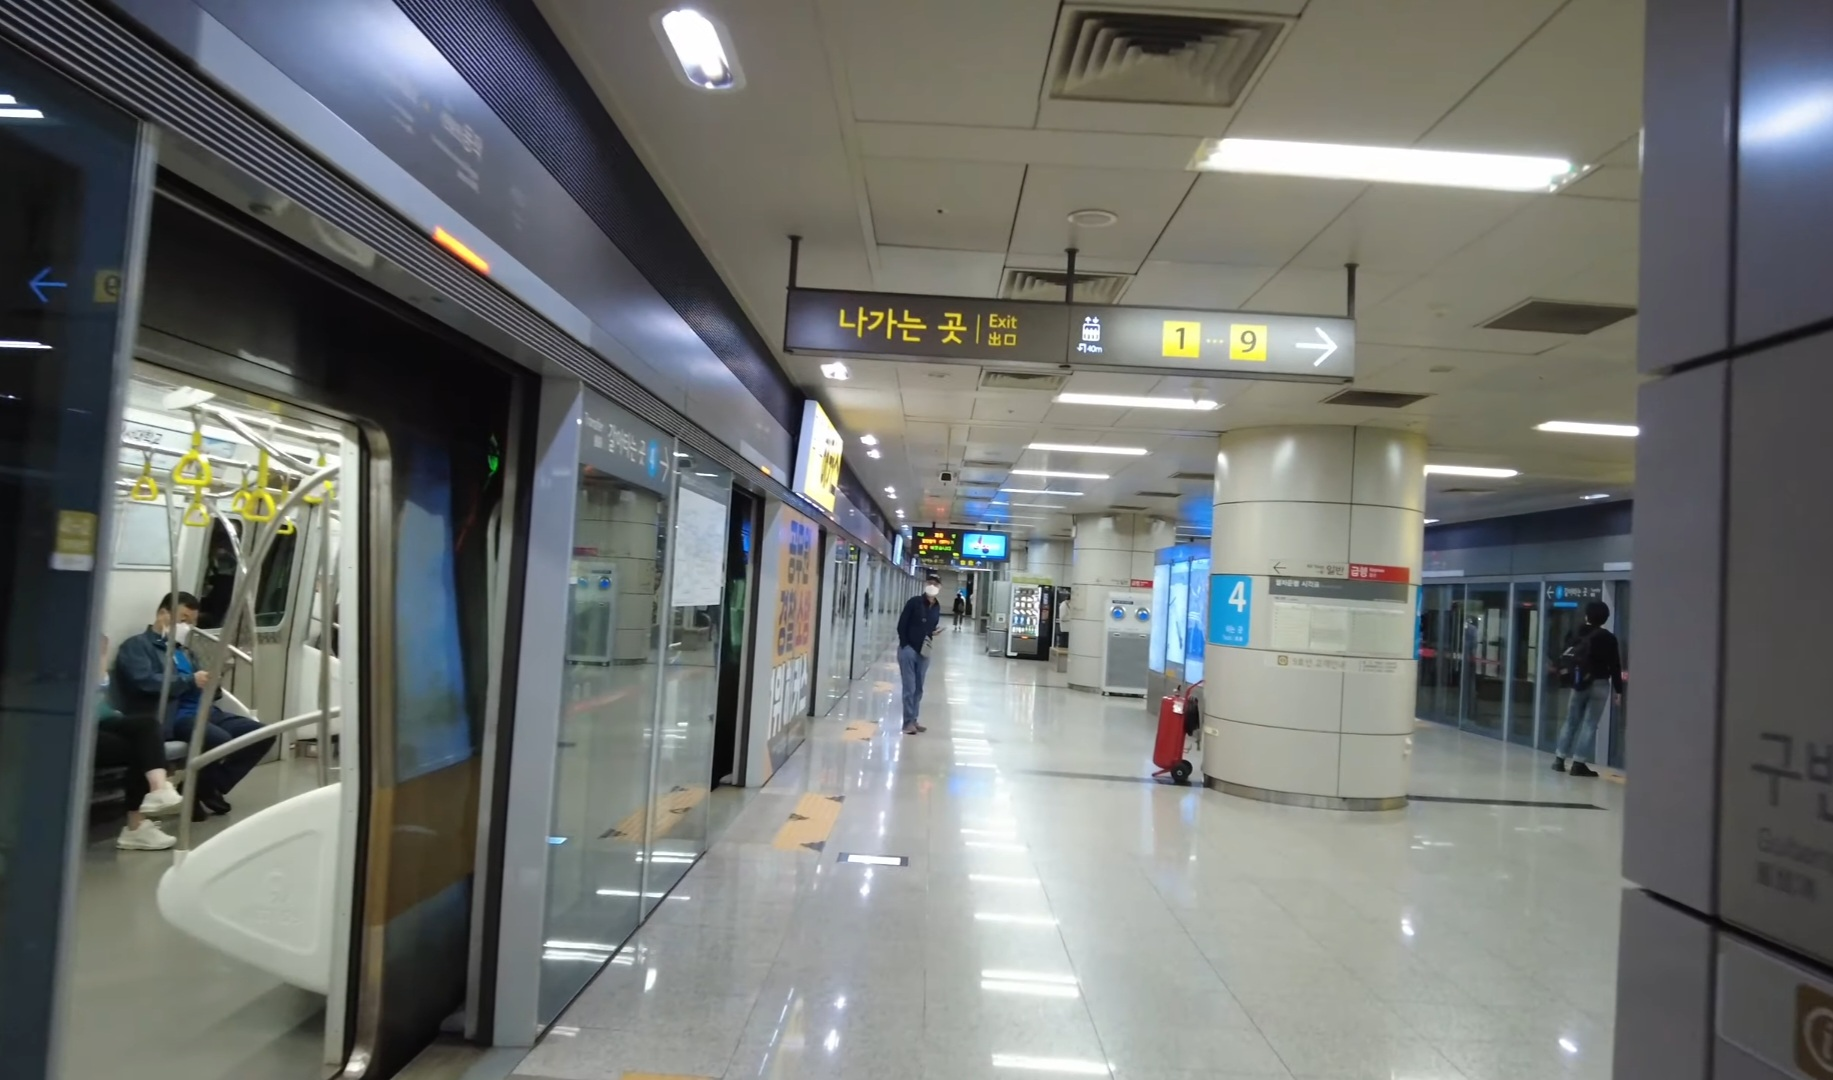signBoard: (782, 282, 1363, 384)
